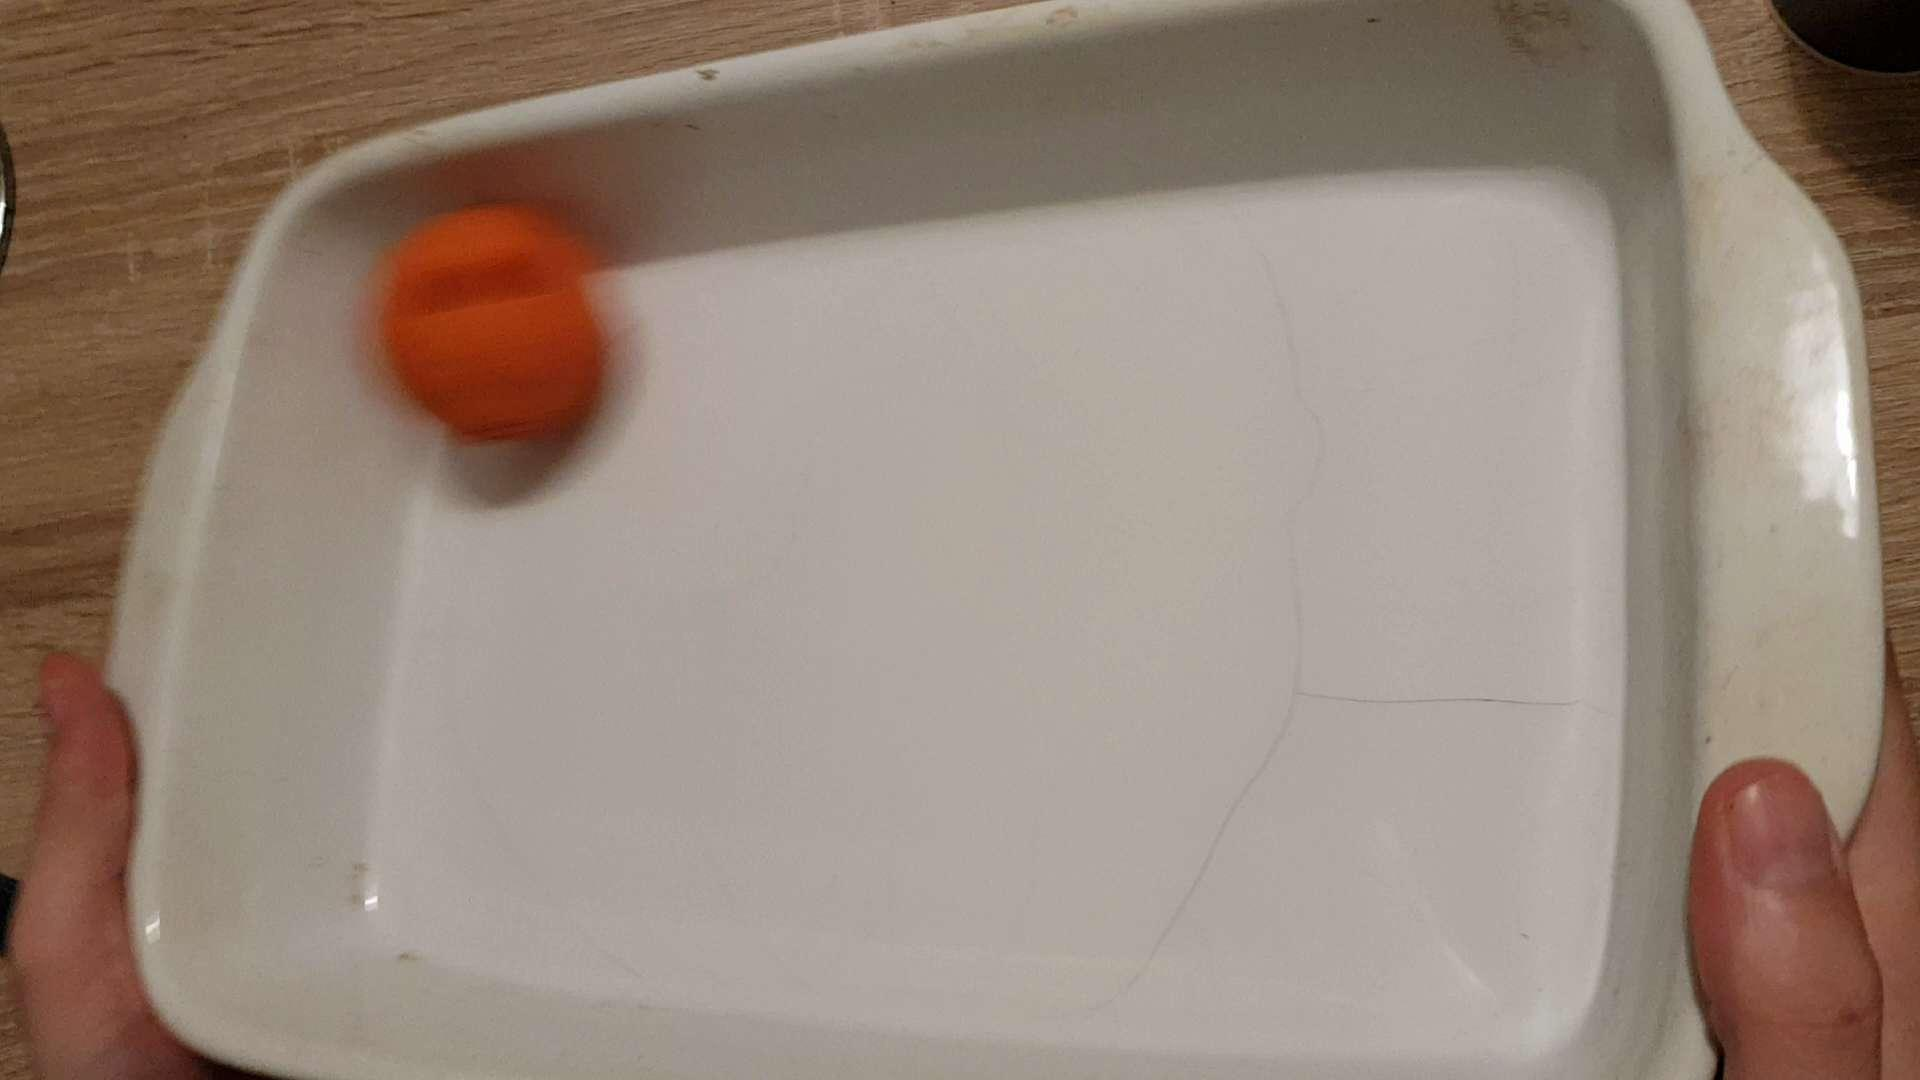Sphere: (361, 202, 620, 447)
